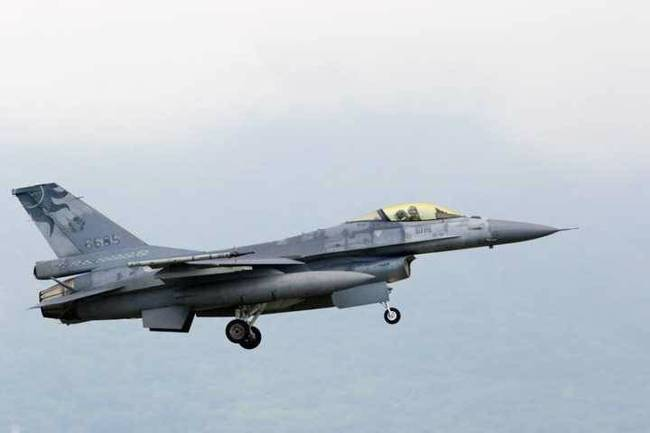airplane: (9, 180, 582, 350)
